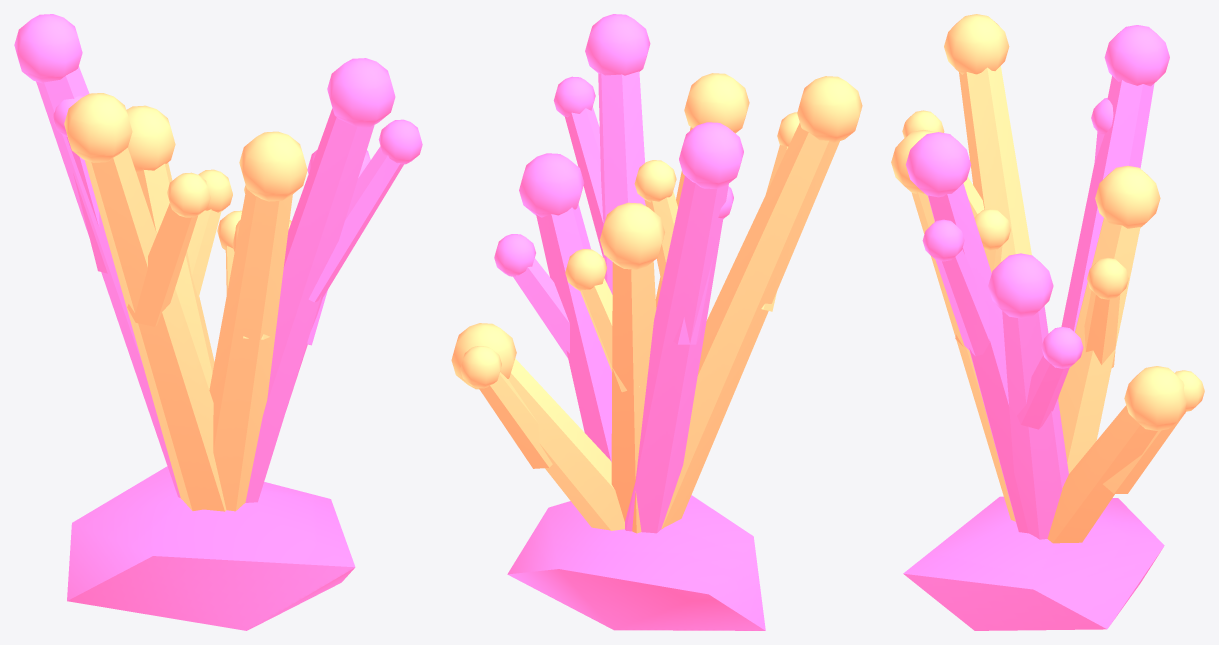
Rendered from mu_coral_branch_a.glb.
The picture shows the model from 3 angles, left to right: view 1: azimuth 30°, elevation 25°; view 2: azimuth 150°, elevation 25°; view 3: azimuth 270°, elevation 25°; orthographic projection. The views are drawn at different scales.
Visible parts, largest first — view 1: mu_coral_branch_a; view 2: mu_coral_branch_a; view 3: mu_coral_branch_a.
Part boxes in pixels (x1,y1,x2,y2): mu_coral_branch_a: (14,14,422,630); mu_coral_branch_a: (451,14,862,630); mu_coral_branch_a: (891,14,1204,630).
Bounding box in the file's own units: 1.53 × 2.54 × 1.34.
Materials: 2 (2 with a texture image).
